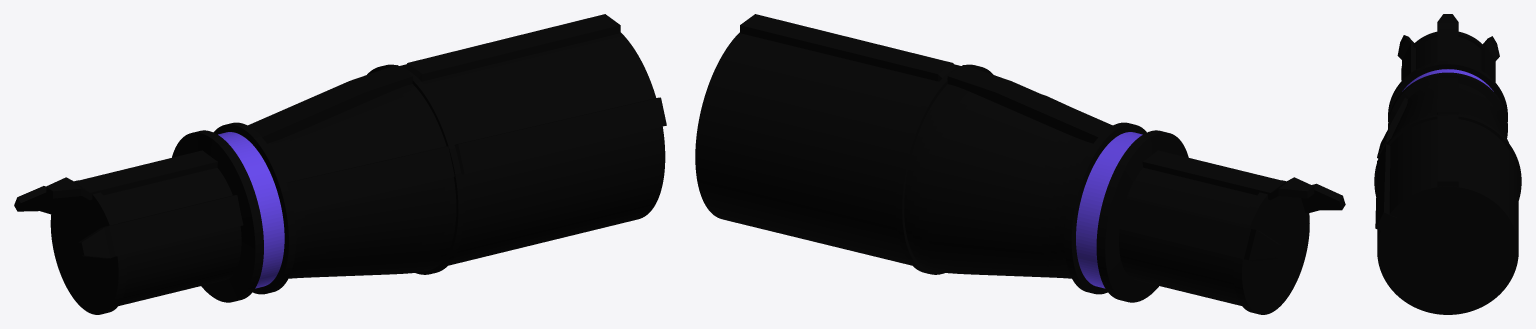
Rendered from gun.glb.
3 renders of one model, left to right at view 1: azimuth 30°, elevation 25°; view 2: azimuth 150°, elevation 25°; view 3: azimuth 270°, elevation 25°, orthographic. The views are drawn at different scales.
Visible parts, largest first — view 1: Gun, Cube.001, Cube, Cube.003, Cube.002, Cube.004; view 2: Gun, Cube, Cube.004, Cube.002, Cube.003; view 3: Gun, Cube, Cube.001, Cube.002, Cube.004, Cube.003.
Part boxes in pixels (x1,y1,x2,y2): Gun: (50,32,665,314); Cube.001: (286,97,666,212); Cube: (248,14,620,143); Cube.003: (78,195,243,258); Cube.002: (46,150,217,199); Cube.004: (14,186,59,214); Gun: (695,32,1309,314); Cube: (740,14,1112,143); Cube.004: (1115,197,1281,261); Cube.002: (1142,150,1314,200); Cube.003: (1301,183,1345,213); Gun: (1374,31,1521,314); Cube: (1437,77,1458,186); Cube.001: (1375,98,1407,234); Cube.002: (1437,14,1458,61); Cube.004: (1481,36,1499,81); Cube.003: (1397,35,1415,80).
Bounding box in the file's own units: 2.18 × 0.7257 × 0.7135.
